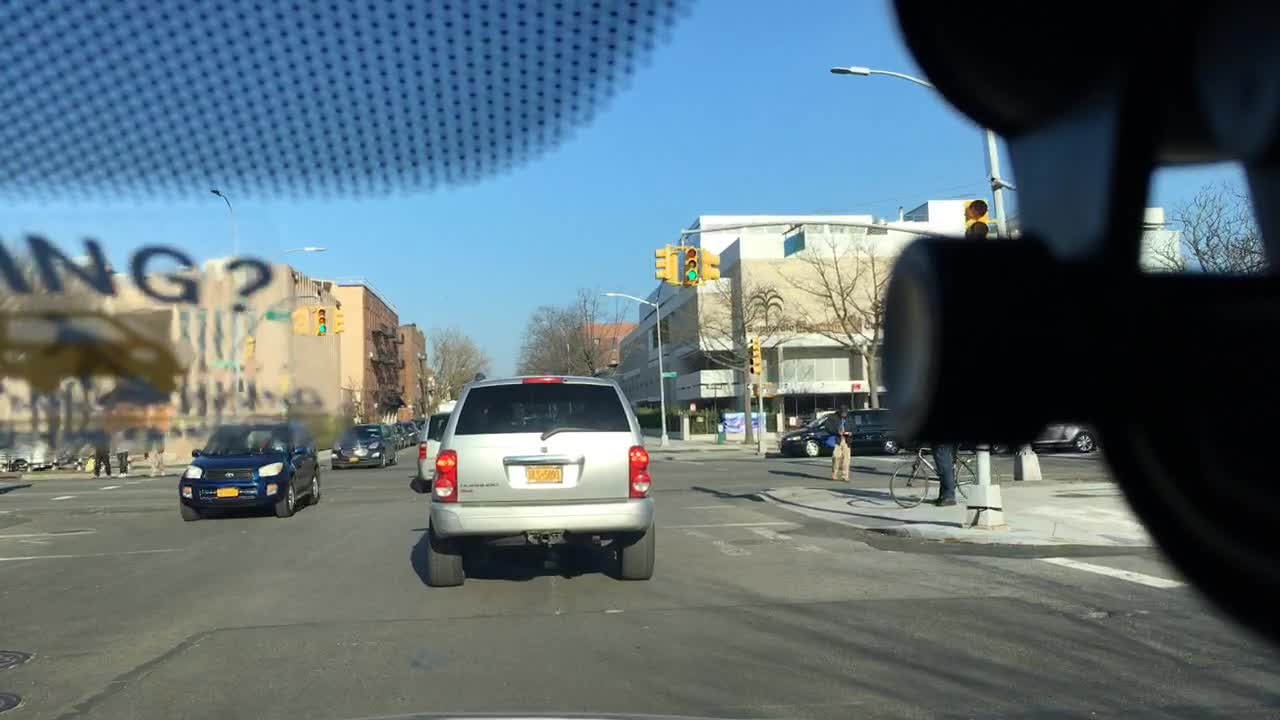bike: (887, 441, 1008, 511)
car: (421, 368, 656, 590), (176, 418, 322, 519), (779, 407, 907, 462), (992, 418, 1099, 460), (330, 425, 399, 468), (414, 413, 451, 493), (392, 422, 414, 453), (0, 457, 34, 471), (403, 420, 419, 449), (412, 418, 429, 442), (33, 452, 56, 469)
person: (929, 441, 962, 507), (828, 403, 854, 480), (89, 427, 113, 480), (117, 429, 132, 476)
traffic light: (964, 200, 991, 237), (682, 244, 699, 288), (651, 246, 668, 282), (706, 251, 723, 284), (291, 308, 309, 337), (746, 337, 759, 374), (240, 336, 256, 365), (333, 310, 346, 337)
traffic sign: (777, 232, 808, 261), (662, 370, 679, 378)
